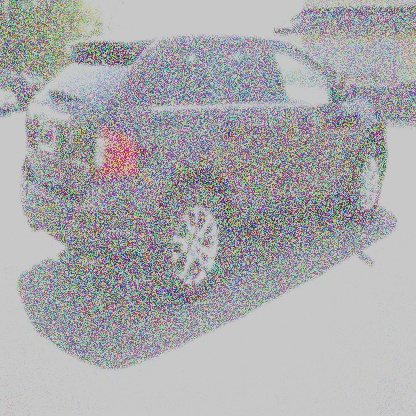Vehicle: (24, 35, 388, 304)
